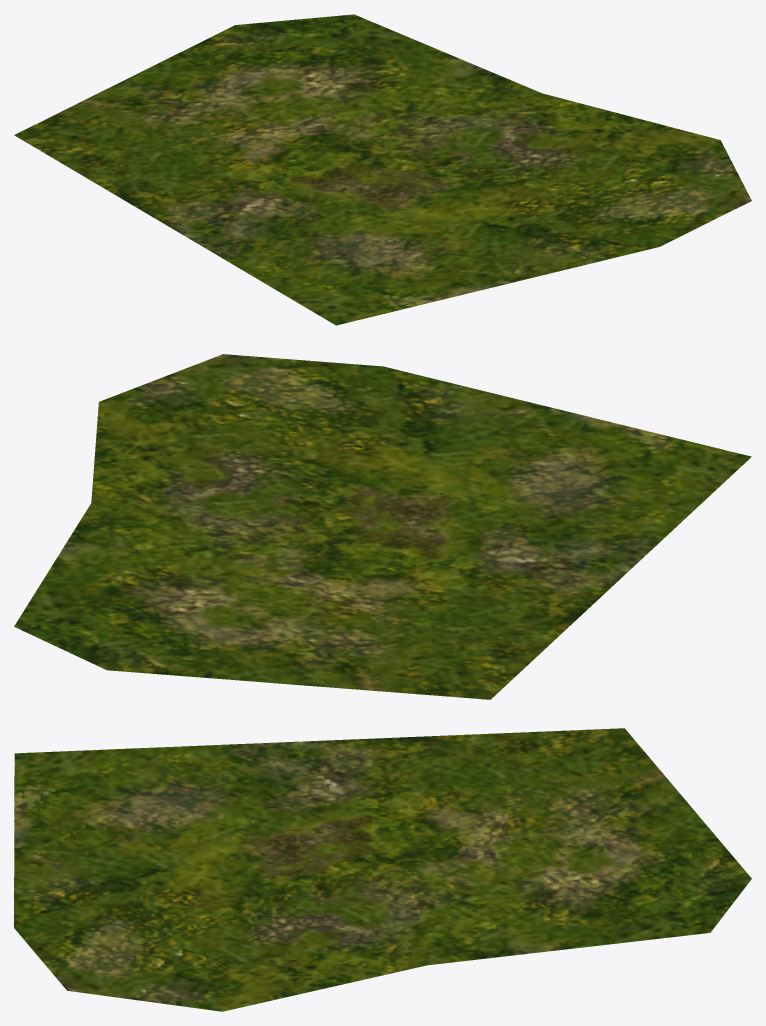
File: OVERHILL_A_01_LINE28.fbx
3 renders of one model, top to bottom at view 1: azimuth 30°, elevation 25°; view 2: azimuth 150°, elevation 25°; view 3: azimuth 270°, elevation 25°, orthographic. The views are drawn at different scales.
Visible parts, largest first — view 1: OVERHILL_A_01_LINE28; view 2: OVERHILL_A_01_LINE28; view 3: OVERHILL_A_01_LINE28.
Part boxes in pixels (x1,y1,x2,y2): OVERHILL_A_01_LINE28: (14,14,751,325); OVERHILL_A_01_LINE28: (14,354,751,699); OVERHILL_A_01_LINE28: (14,728,751,1011).
Bounding box in the file's own units: 17373 × 0.00311 × 19110.
1 material, 1 textured.
